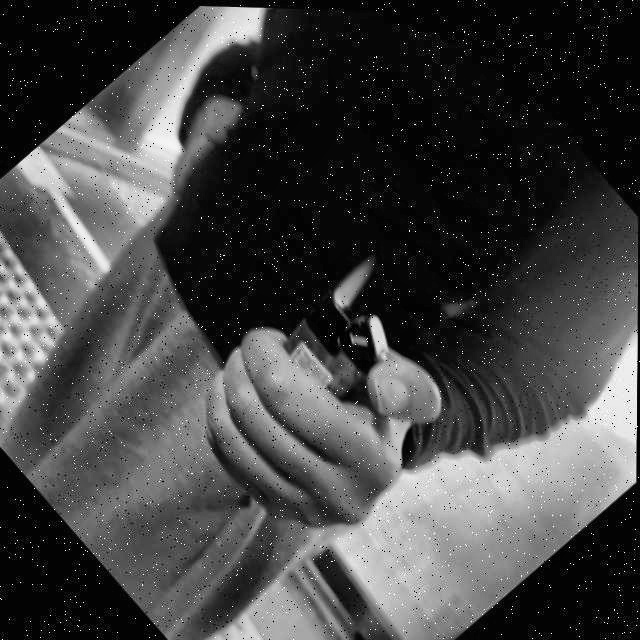Fire: (324, 254, 383, 312)
